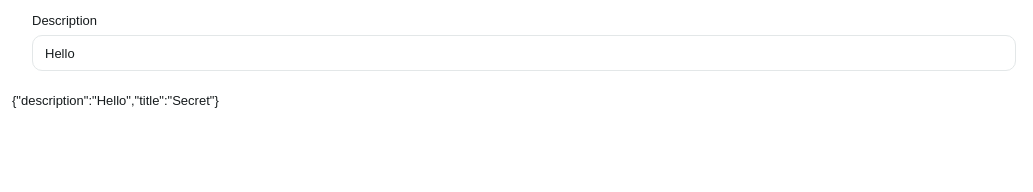
Scenario: conditional fields › asks the server for server-side conditions
This screenshot has width=1033, height=192.
Type "!" into the field at point(524, 53), box top-left (32, 35), bottom-right (1016, 71)
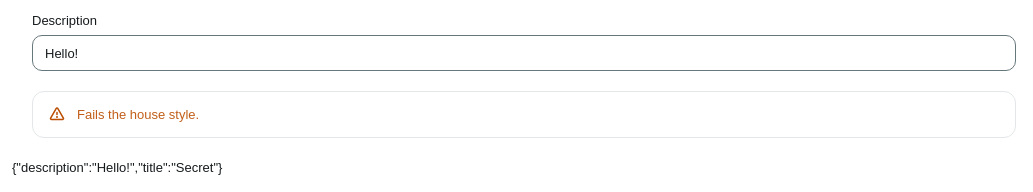
expect the element with test id "callout" reads "Fails the house style.": met, box top-left (77, 107), bottom-right (199, 122)
